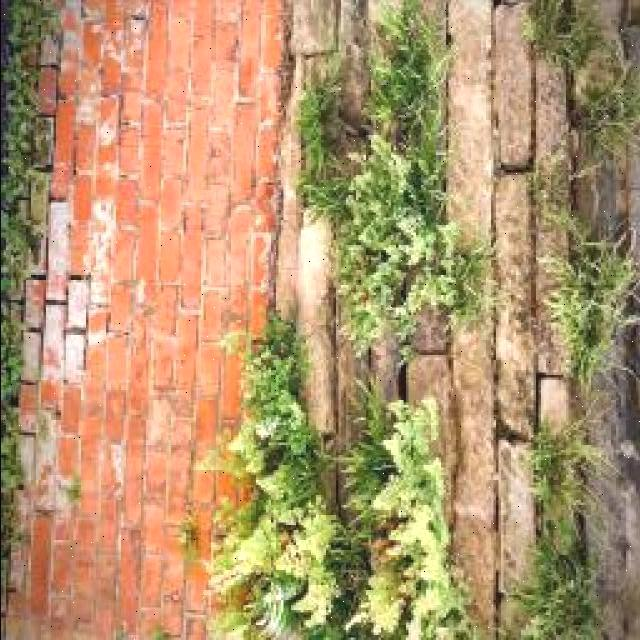crack: (244, 20, 292, 639), (264, 0, 308, 374), (577, 432, 640, 636), (487, 0, 505, 208), (526, 7, 541, 176)
vegetation: (327, 369, 411, 634), (536, 197, 640, 405), (207, 486, 345, 635), (517, 1, 640, 166), (213, 335, 323, 501), (2, 1, 61, 280), (368, 489, 467, 637), (386, 207, 479, 351), (340, 134, 438, 267), (500, 512, 598, 640), (366, 398, 450, 530), (520, 414, 613, 526), (157, 502, 217, 635), (290, 73, 349, 204), (335, 262, 399, 363), (6, 0, 60, 79), (194, 437, 255, 489), (1, 320, 29, 411), (1, 418, 27, 503)
